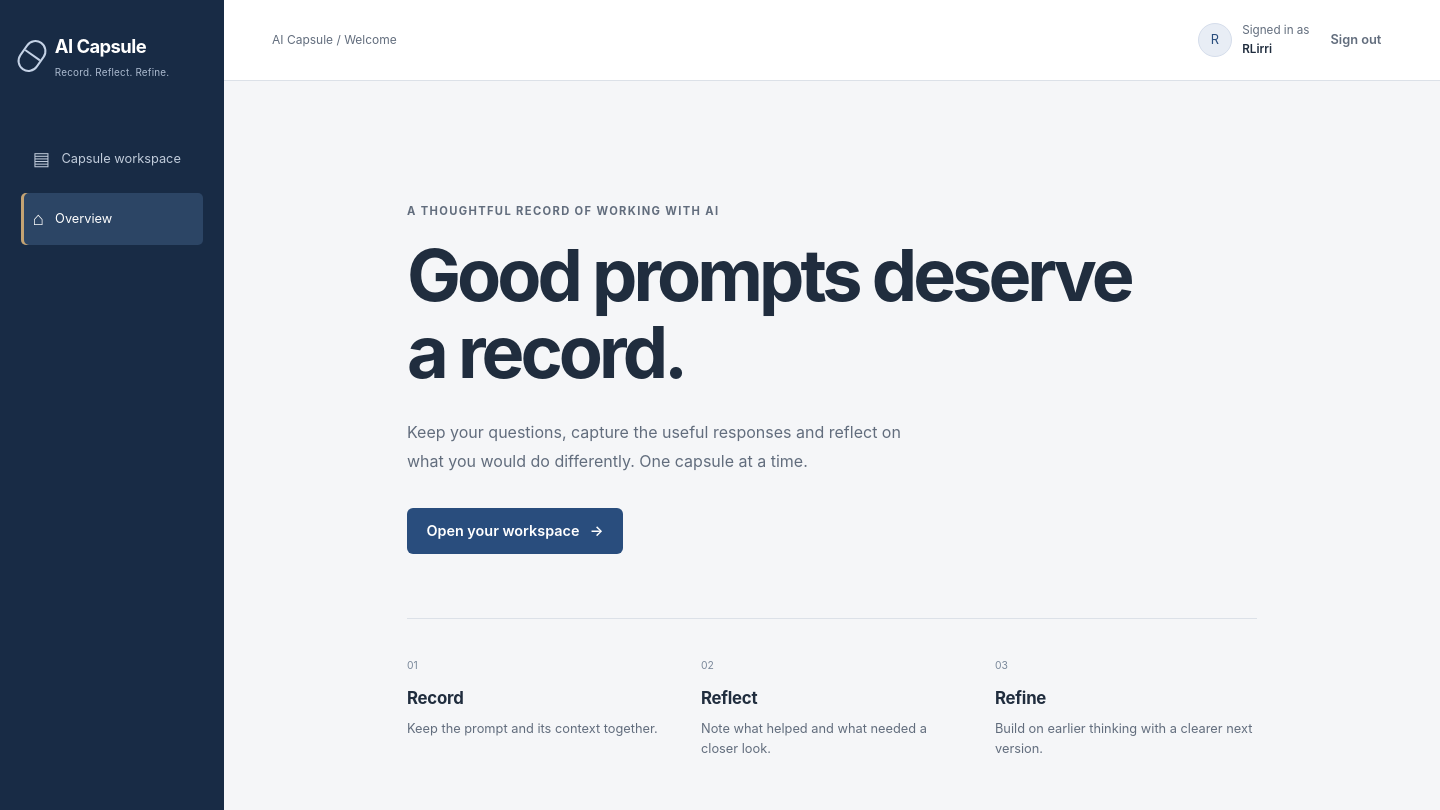
Test case: overview session navigation › updates the shared overview header after logout
Click the button "Sign out" at coordinates (1356, 40), box [1320,18,1392,62]
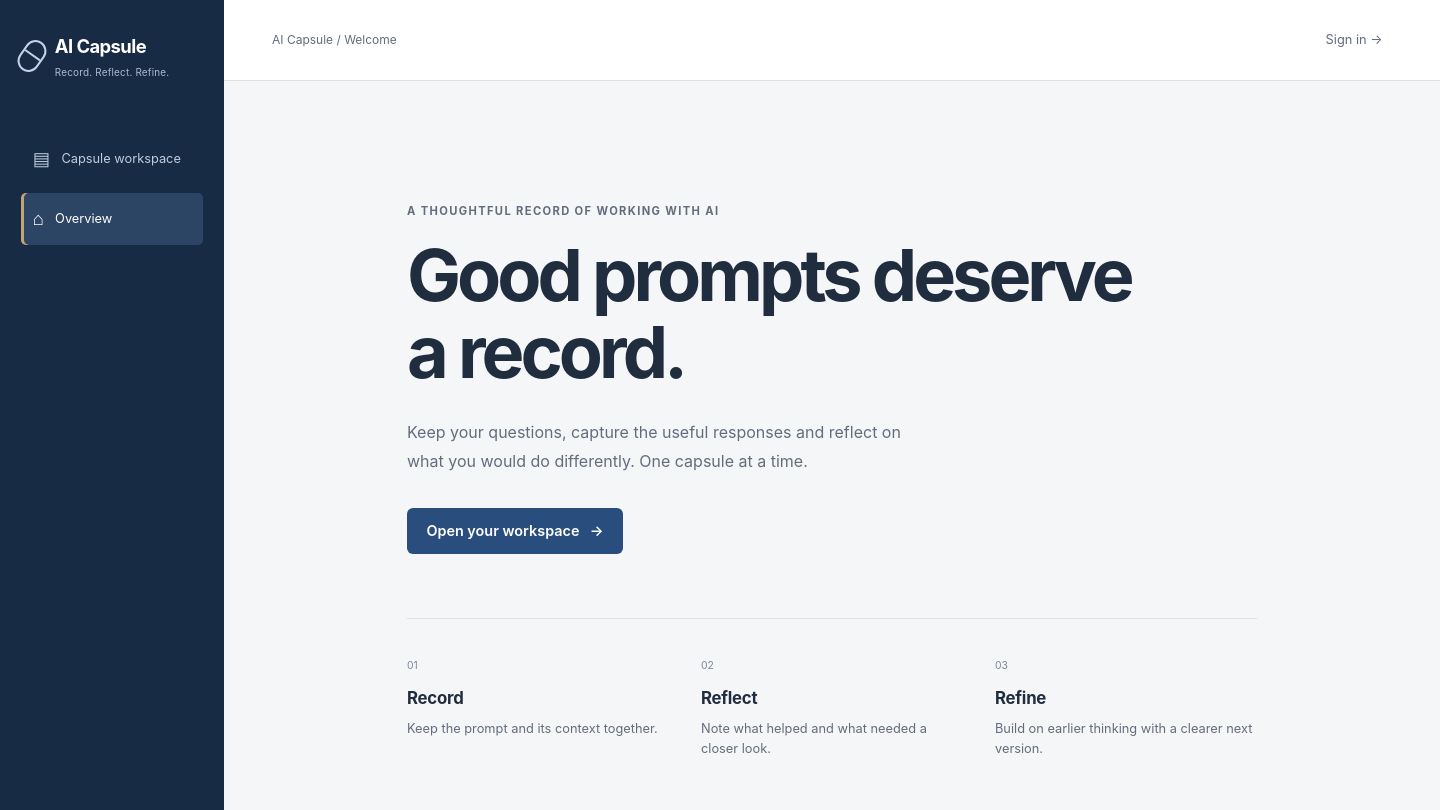
Expected: the heading "Good prompts deserve" is shown, [407,236,1257,391]
Result: the link "Sign in →" is shown at [1326,32,1382,47]
Result: the text "RLirri" is gone
